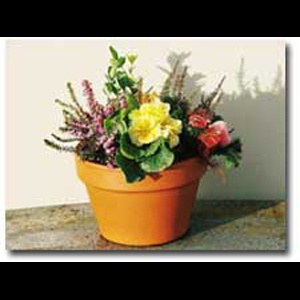flowerpot: (74, 130, 210, 250)
